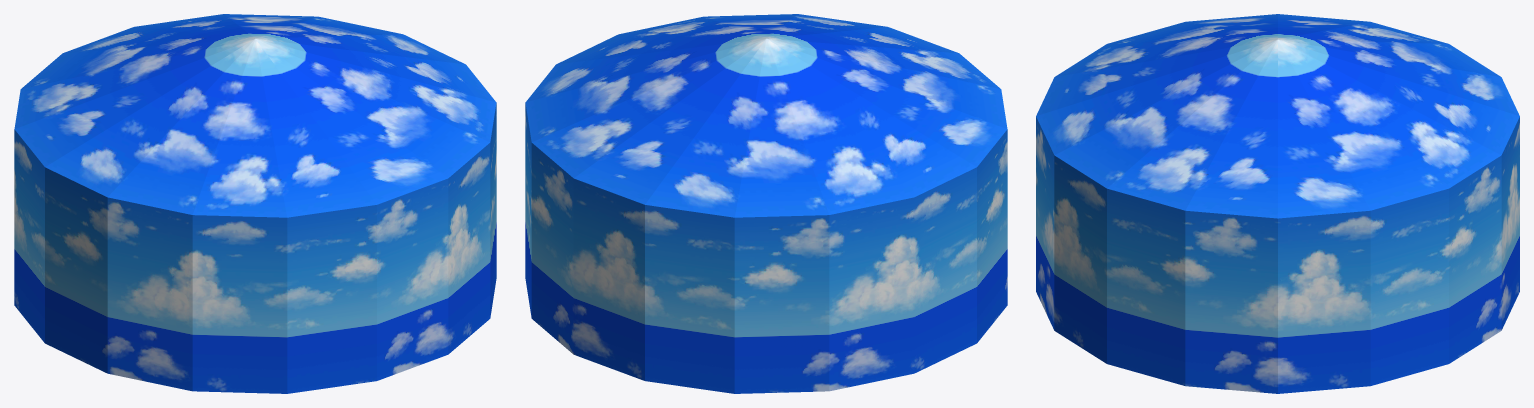
File: coconut.obj
3 renders of one model, left to right at view 1: azimuth 30°, elevation 25°; view 2: azimuth 150°, elevation 25°; view 3: azimuth 270°, elevation 25°, orthographic.
Parts seen in each view (by area): view 1: Wii_Coconut_Mall; view 2: Wii_Coconut_Mall; view 3: Wii_Coconut_Mall.
Boxes of the visible parts, x1=… form: Wii_Coconut_Mall: x1=14, y1=14, x2=496, y2=393; Wii_Coconut_Mall: x1=525, y1=14, x2=1007, y2=393; Wii_Coconut_Mall: x1=1036, y1=14, x2=1519, y2=393.
Bounding box in the file's own units: 10 × 7.25 × 10.
19 materials, 19 textured.
